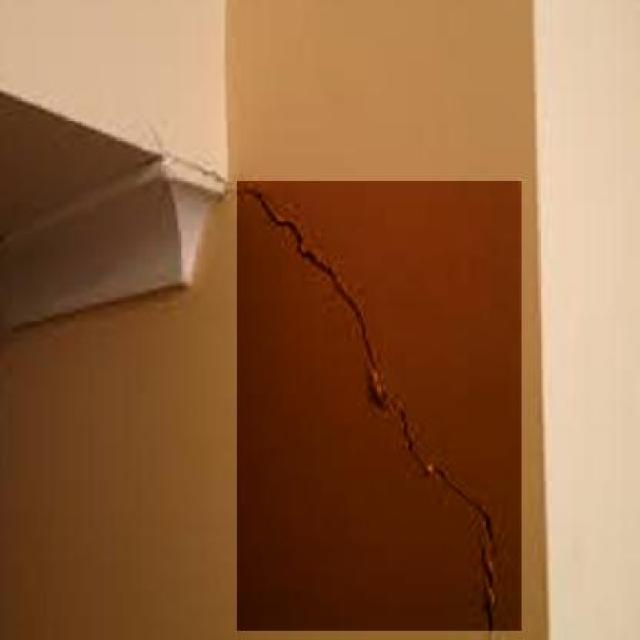Crack: (248, 188, 522, 627), (143, 131, 227, 185)
